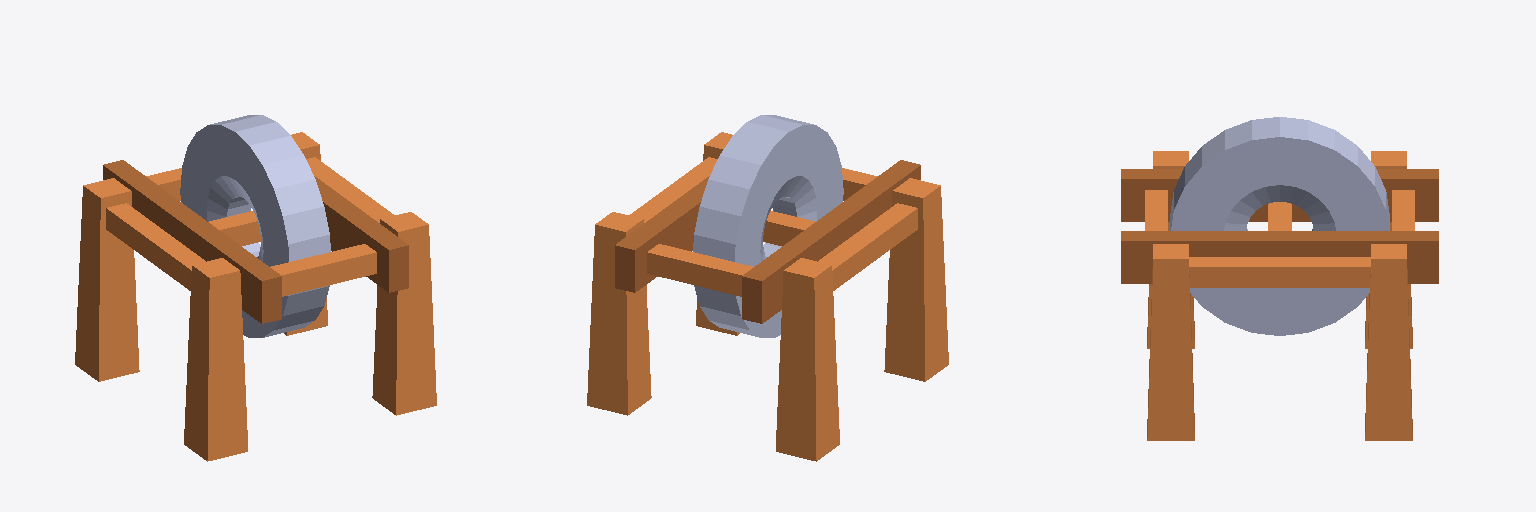
File: workbenchGrind.obj
3 renders of one model, left to right at view 1: azimuth 30°, elevation 25°; view 2: azimuth 150°, elevation 25°; view 3: azimuth 270°, elevation 25°, orthographic.
Visible parts, largest first — view 1: workbenchGrind; view 2: workbenchGrind; view 3: workbenchGrind.
Boxes of the visible parts, <box> form: workbenchGrind: <box>75,115,436,461</box>; workbenchGrind: <box>587,115,948,461</box>; workbenchGrind: <box>1121,117,1438,440</box>.
Size of the model in its own units: 0.2604 by 0.2801 by 0.3125.